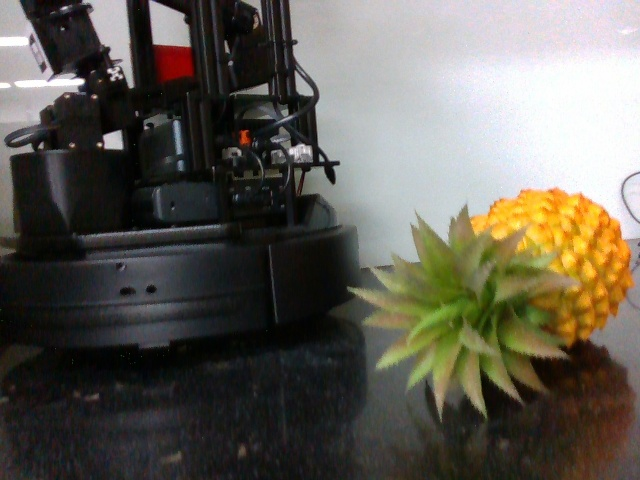pineapple: (361, 183, 632, 413)
